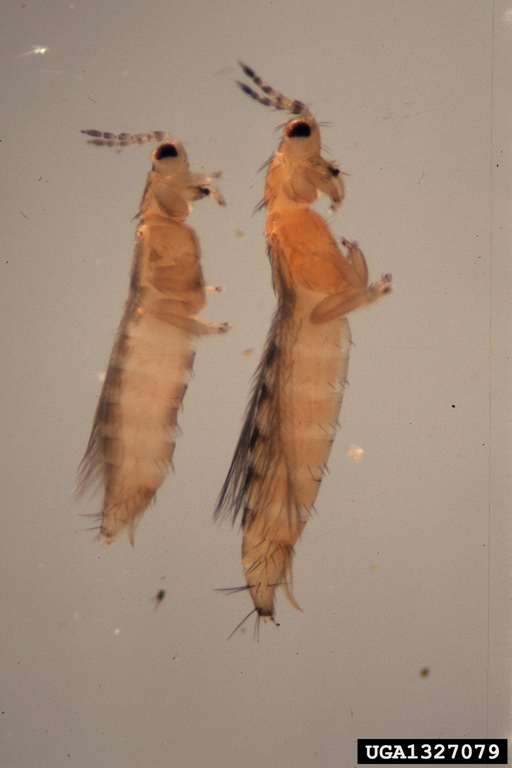Thrips: (224, 47, 388, 657), (41, 98, 220, 571)
